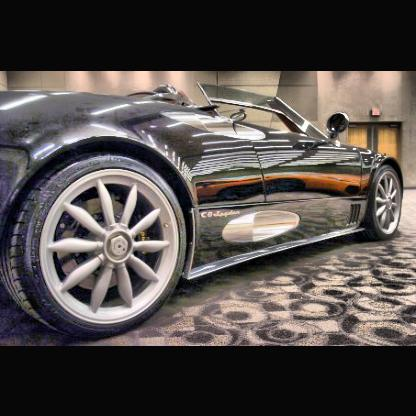Spyker C8 Convertible 2009: (2, 80, 406, 342)
